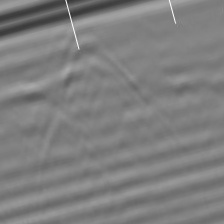Utility: (62, 28, 124, 83)
